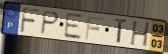E: (62, 12, 84, 41)
F: (19, 7, 41, 35), (84, 15, 105, 41)
H: (129, 20, 152, 49)
P: (39, 10, 61, 36)
T: (113, 17, 130, 45)
